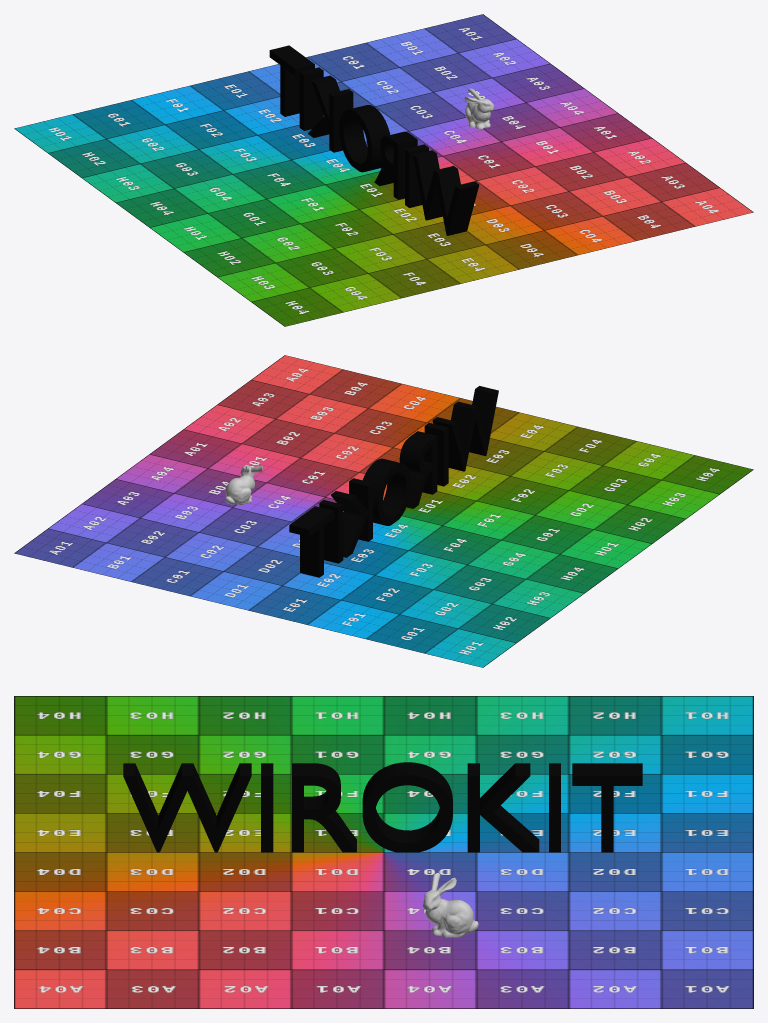
Rendered from wirokit.obj.
The picture shows the model from 3 angles, top to bottom: view 1: azimuth 30°, elevation 25°; view 2: azimuth 150°, elevation 25°; view 3: azimuth 270°, elevation 25°; orthographic projection. The views are drawn at different scales.
Visible parts, largest first — view 1: Plane, Text, Bunny; view 2: Plane, Text, Bunny; view 3: Plane, Text, Bunny.
Boxes of the visible parts, x1=… form: Plane: x1=14, y1=14, x2=753, y2=326; Text: x1=269, y1=45, x2=479, y2=235; Bunny: x1=464, y1=88, x2=494, y2=129; Plane: x1=14, y1=355, x2=753, y2=667; Text: x1=289, y1=386, x2=498, y2=577; Bunny: x1=225, y1=465, x2=262, y2=504; Plane: x1=14, y1=696, x2=753, y2=1008; Text: x1=123, y1=762, x2=642, y2=852; Bunny: x1=423, y1=873, x2=478, y2=937.
Bounding box in the file's own units: 6 × 0.7 × 6.
3 materials, 1 textured.
